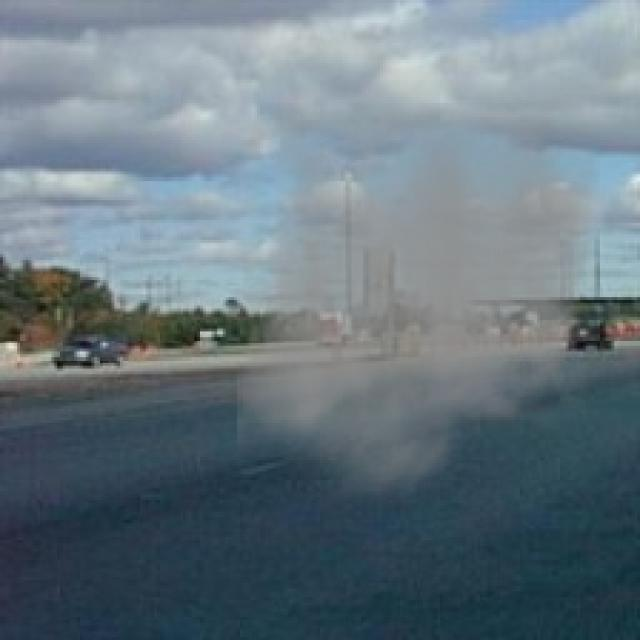Smoke: (237, 102, 600, 514)
